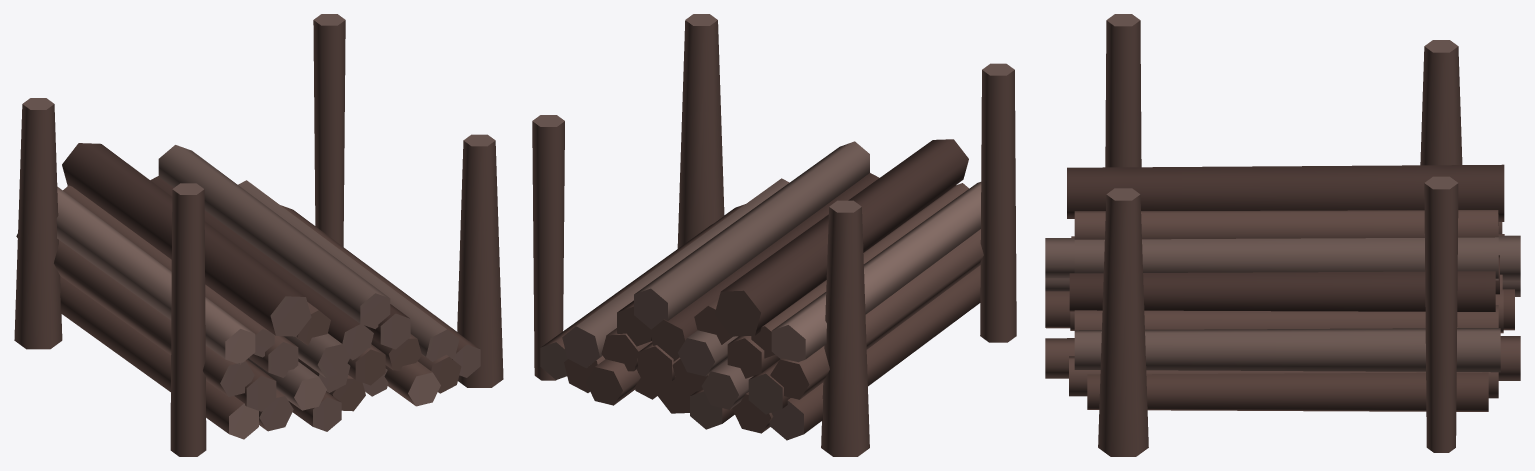
The model's file is rn_logpile.glb.
3 views of the same model, side by side, from view 1: azimuth 30°, elevation 25°; view 2: azimuth 150°, elevation 25°; view 3: azimuth 270°, elevation 25° (orthographic). The views are drawn at different scales.
Visible parts, largest first — view 1: rn_logpile; view 2: rn_logpile; view 3: rn_logpile.
Boxes of the visible parts, bbox=[...] form: rn_logpile: bbox=[14, 14, 503, 456]; rn_logpile: bbox=[532, 14, 1016, 456]; rn_logpile: bbox=[1045, 14, 1520, 456].
Size of the model in its own units: 2.1 by 1.6 by 2.49.
